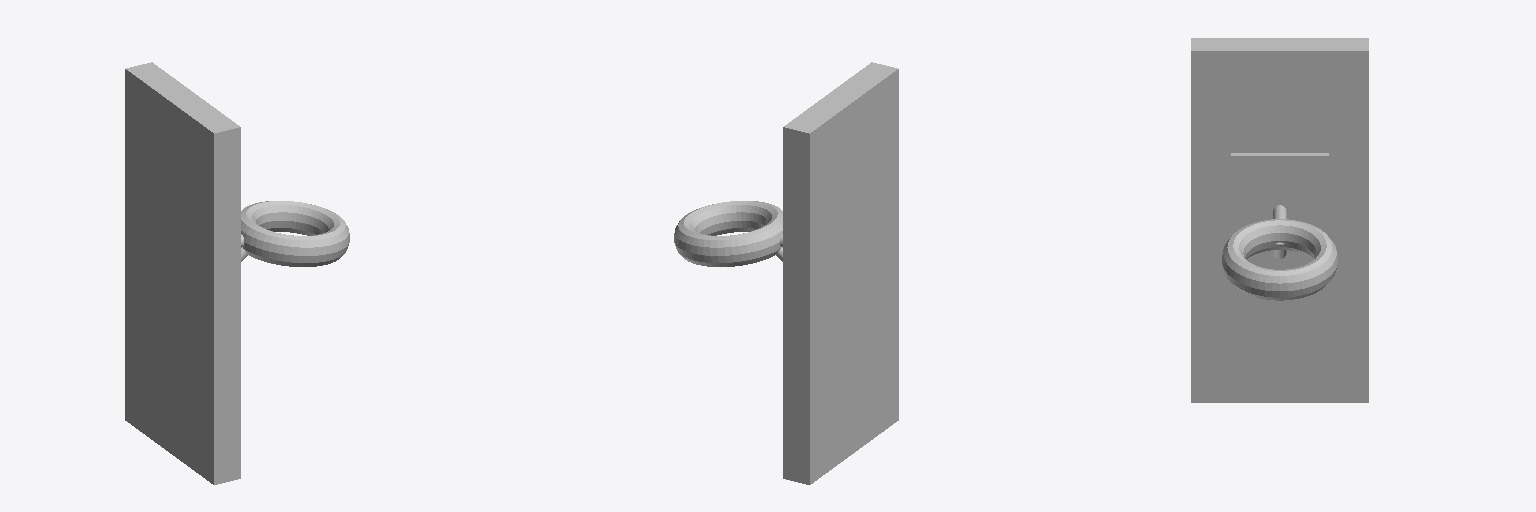
File: torchHandle.obj
3 views of the same model, side by side, from view 1: azimuth 30°, elevation 25°; view 2: azimuth 150°, elevation 25°; view 3: azimuth 270°, elevation 25° (orthographic).
Visible parts, largest first — view 1: Torch1; view 2: Torch1; view 3: Torch1.
Boxes of the visible parts, <box> form: Torch1: <box>125,62,349,484</box>; Torch1: <box>674,62,898,484</box>; Torch1: <box>1191,38,1368,402</box>.
Size of the model in its own units: 0.5161 by 1.01 by 0.4599.